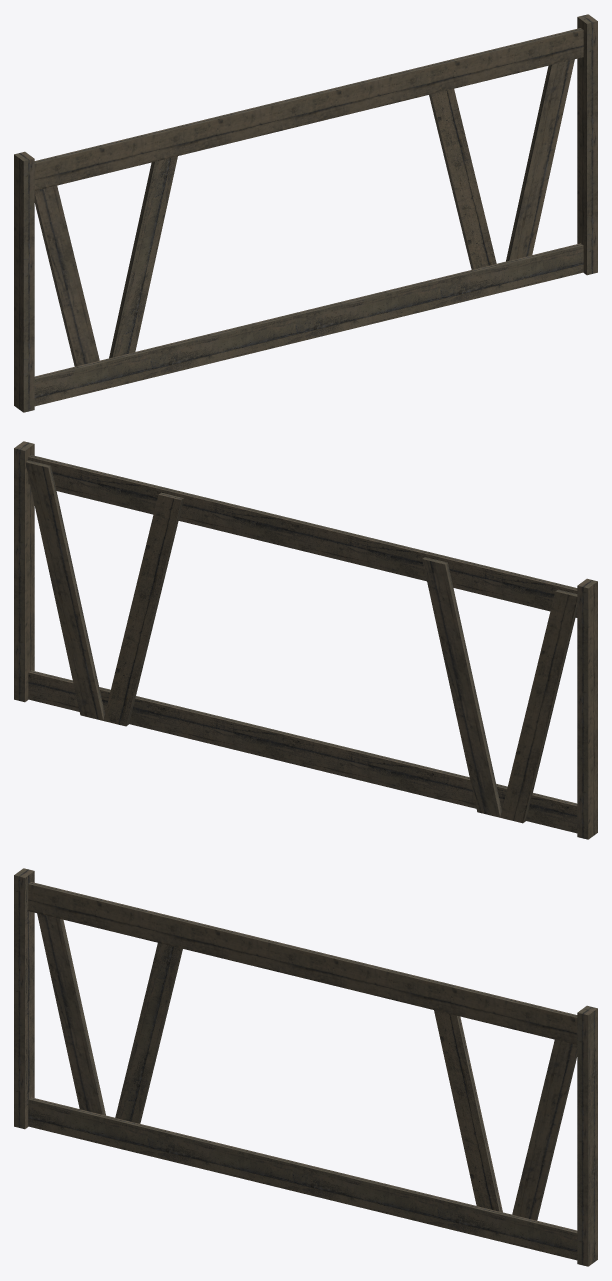
File: Prop_Wood_Music_Barrier.fbx
3 renders of one model, top to bottom at view 1: azimuth 30°, elevation 25°; view 2: azimuth 150°, elevation 25°; view 3: azimuth 330°, elevation 25°, orthographic.
Visible parts, largest first — view 1: Prop_Wood_Music_Barrier; view 2: Prop_Wood_Music_Barrier; view 3: Prop_Wood_Music_Barrier.
Boxes of the visible parts, x1=… form: Prop_Wood_Music_Barrier: x1=14, y1=14, x2=597, y2=412; Prop_Wood_Music_Barrier: x1=14, y1=441, x2=597, y2=839; Prop_Wood_Music_Barrier: x1=14, y1=868, x2=597, y2=1266.
Bounding box in the file's own units: 106 × 44.32 × 3.08.
